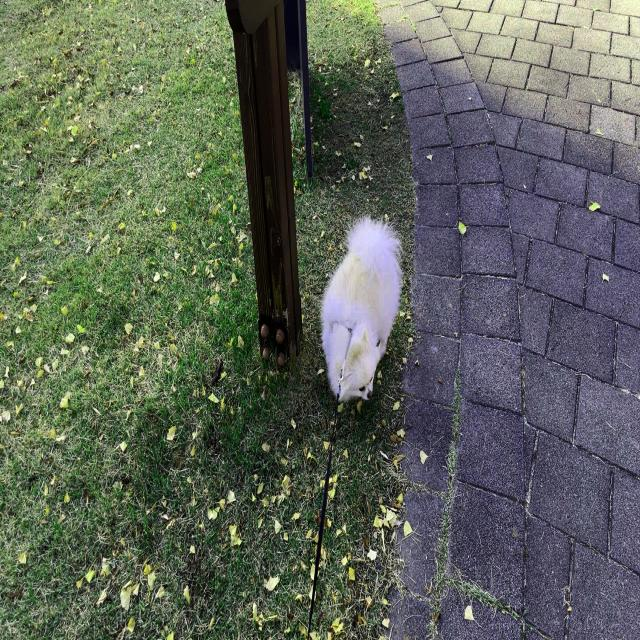Dog: (318, 210, 404, 402)
